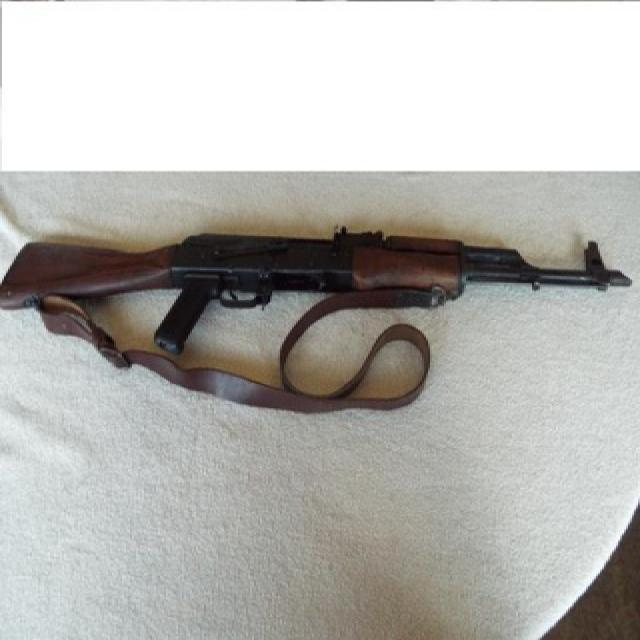weapon: (0, 199, 638, 403)
